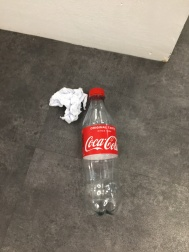bottle_red: (75, 85, 133, 224)
paper_white: (42, 77, 93, 126)
